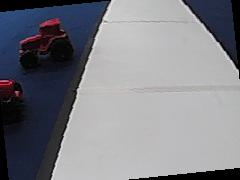Tracktor: (17, 17, 75, 65), (0, 77, 25, 106)
